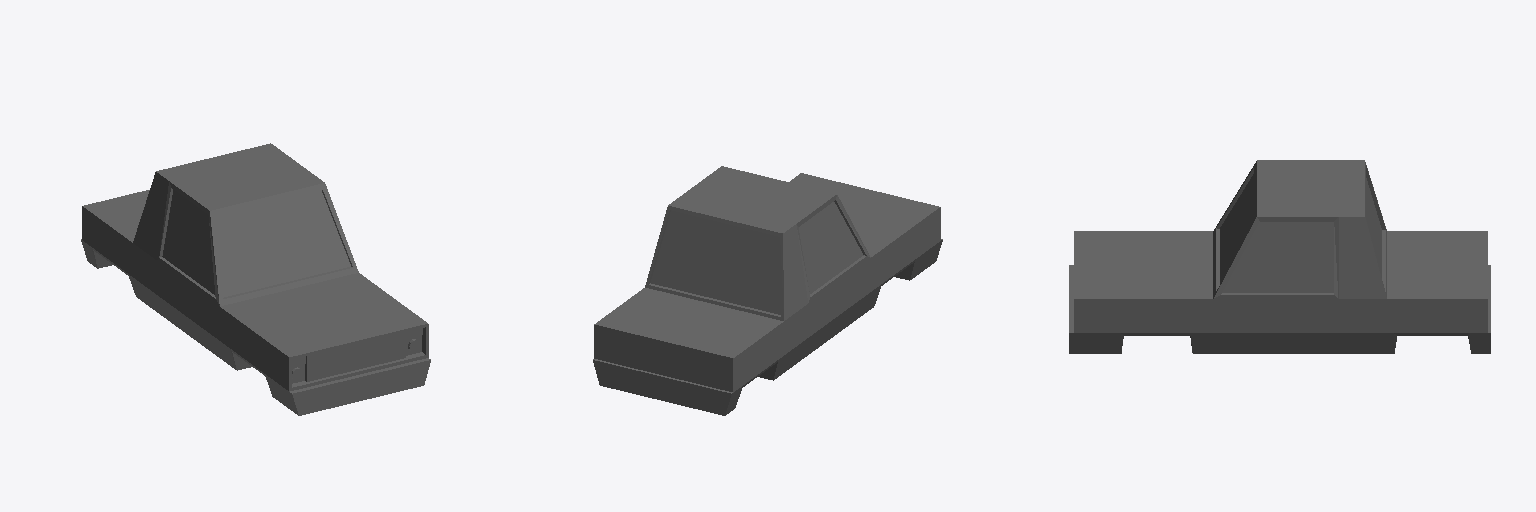
File: LP_car_5_quads.obj
3 views of the same model, side by side, from view 1: azimuth 30°, elevation 25°; view 2: azimuth 150°, elevation 25°; view 3: azimuth 270°, elevation 25° (orthographic).
Parts seen in each view (by area): view 1: Box001; view 2: Box001; view 3: Box001.
Part boxes in pixels (x1,y1,x2,y2): Box001: (81,143,430,415); Box001: (593,166,942,415); Box001: (1069,160,1490,353).
Bounding box in the file's own units: 21.03 × 19.5 × 55.29.